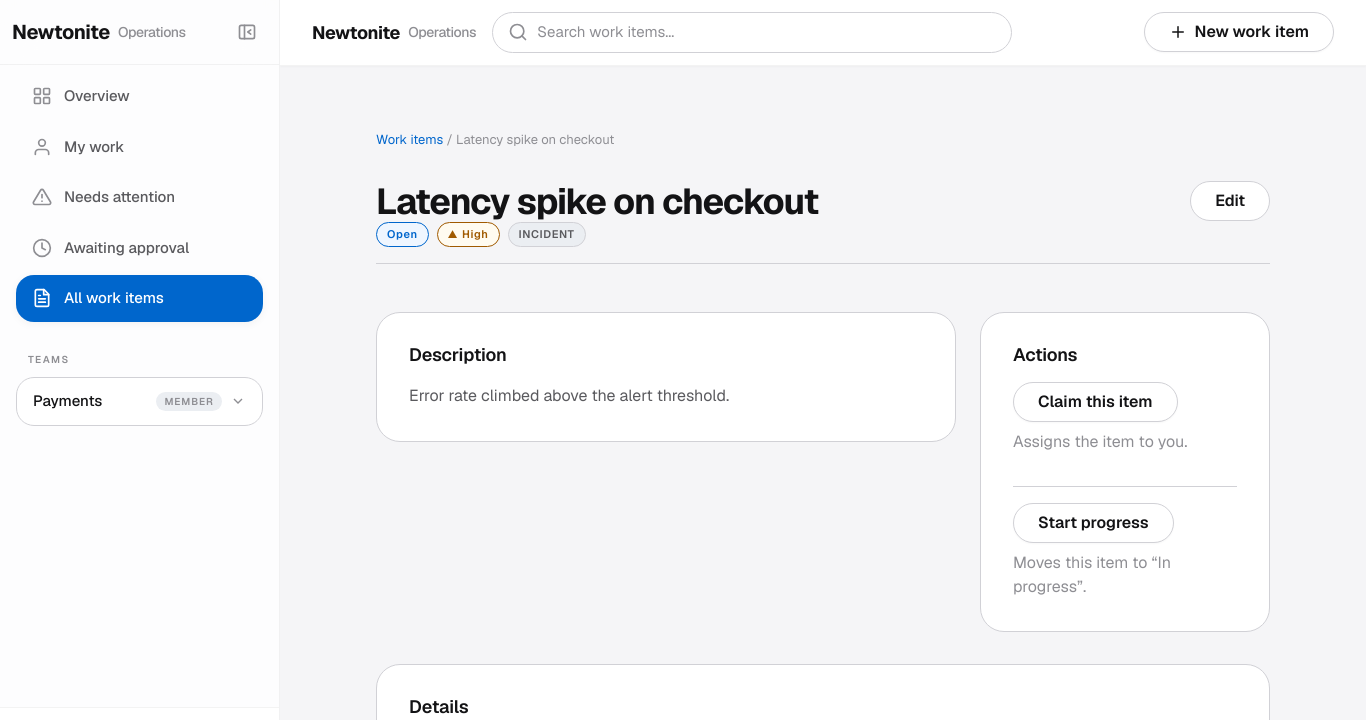
Test: ItemDetailPage › offers the next workflow step and submits the current version
The image size is (1366, 720).
Expected: the heading "Latency spike on checkout" is shown, [376, 181, 818, 222]
Click the button "Start progress".
click(1093, 523)  # box [1013, 503, 1174, 543]
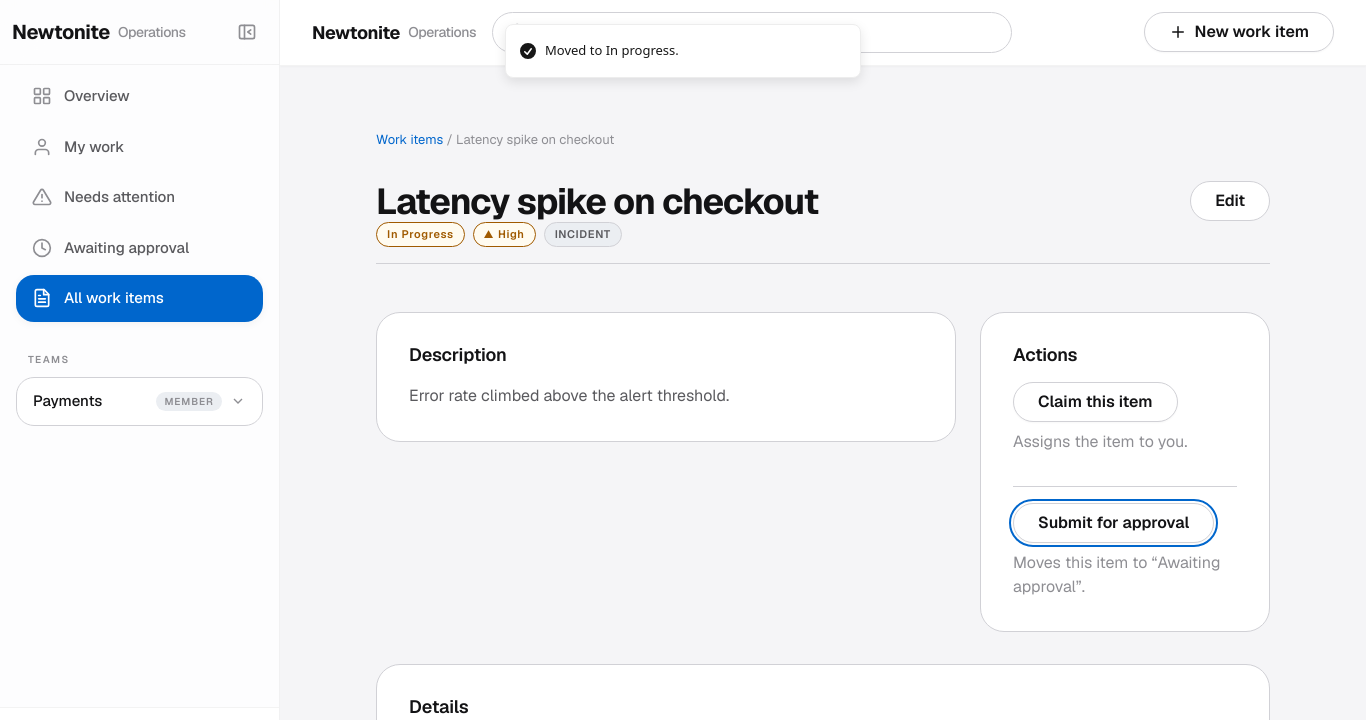
Expected: the text "Moved to In progress." is shown, [545, 41, 679, 60]
